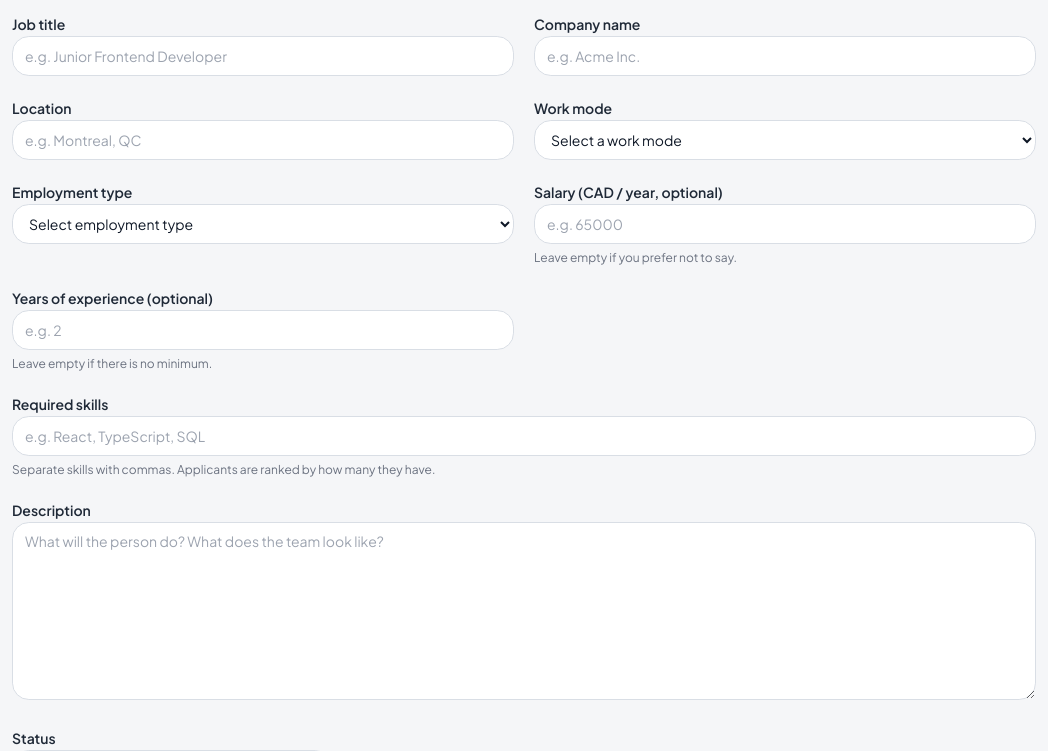
Test: JobPostingForm › previews the skills as tags without repeats
In the field labelled "Required skills": (524, 436) [12,416,1036,456], type "React, SQL,  react ,"
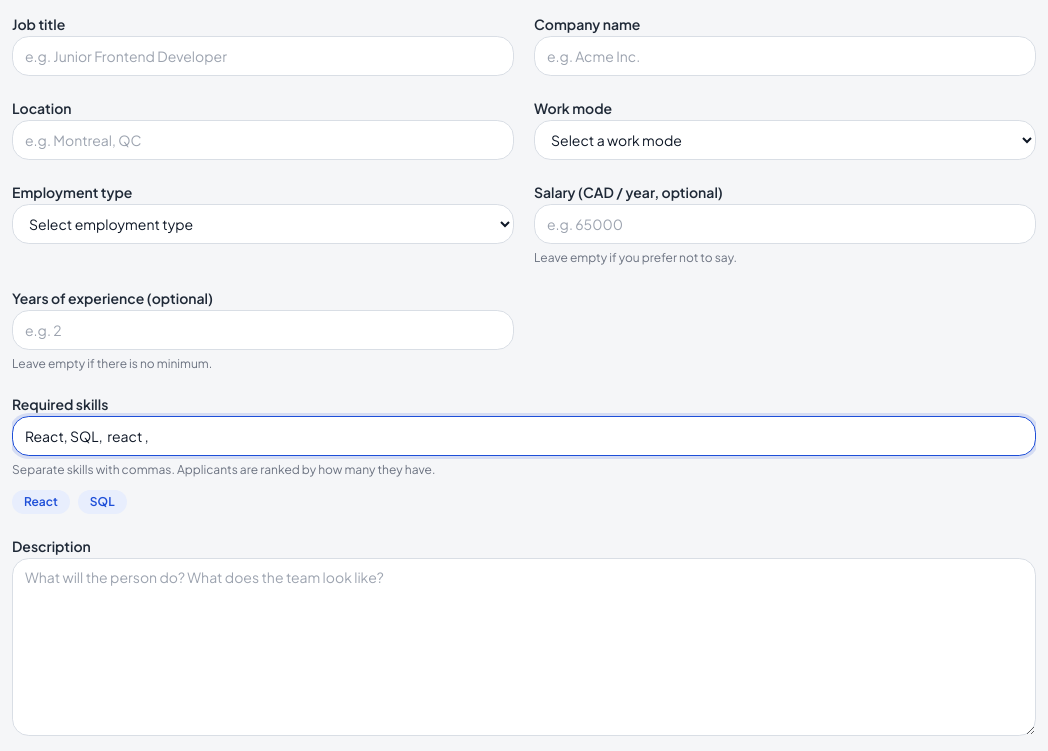
Expected: the list items read "React", "SQL", in this order, [12,490,70,514]; [78,490,127,514]
